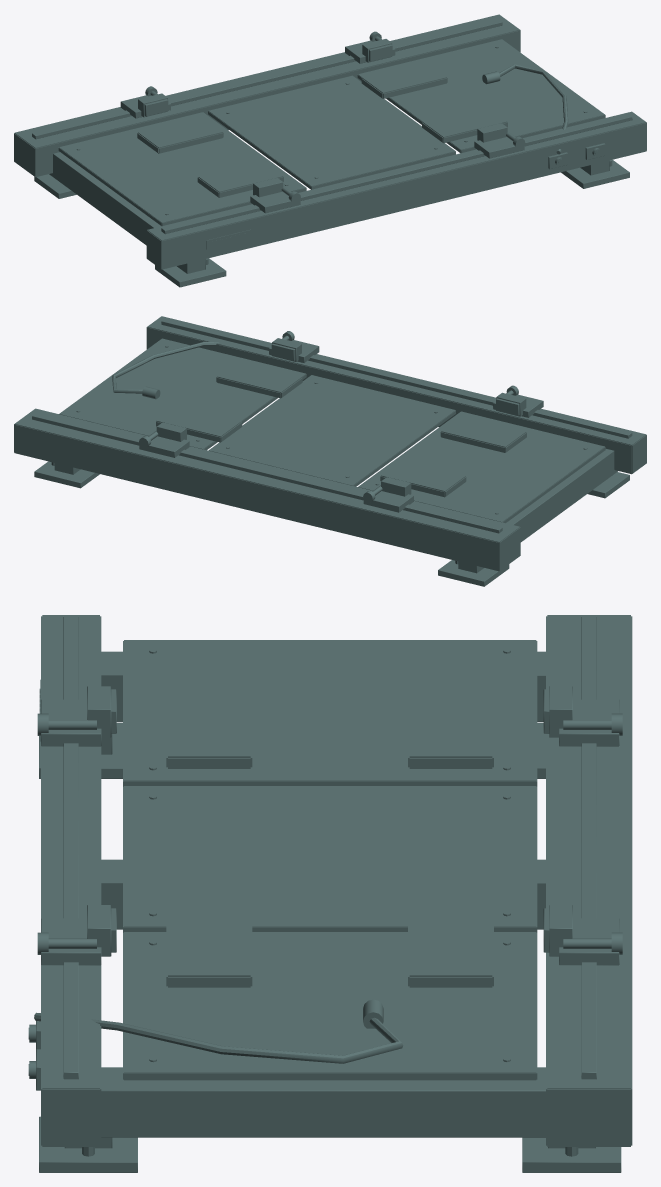
The model's file is OBJ-021_PlataformaRobot.fbx.
The picture shows the model from 3 angles, top to bottom: view 1: azimuth 30°, elevation 25°; view 2: azimuth 150°, elevation 25°; view 3: azimuth 270°, elevation 25°; orthographic projection. The views are drawn at different scales.
Parts seen in each view (by area): view 1: GEO-OBJ-021_PlataformaRobot.001; view 2: GEO-OBJ-021_PlataformaRobot.001; view 3: GEO-OBJ-021_PlataformaRobot.001.
Boxes of the visible parts, bbox=[...] form: GEO-OBJ-021_PlataformaRobot.001: bbox=[14, 14, 646, 287]; GEO-OBJ-021_PlataformaRobot.001: bbox=[14, 316, 646, 586]; GEO-OBJ-021_PlataformaRobot.001: bbox=[28, 615, 632, 1172].
Bounding box in the file's own units: 2.6 × 0.35 × 1.4.
